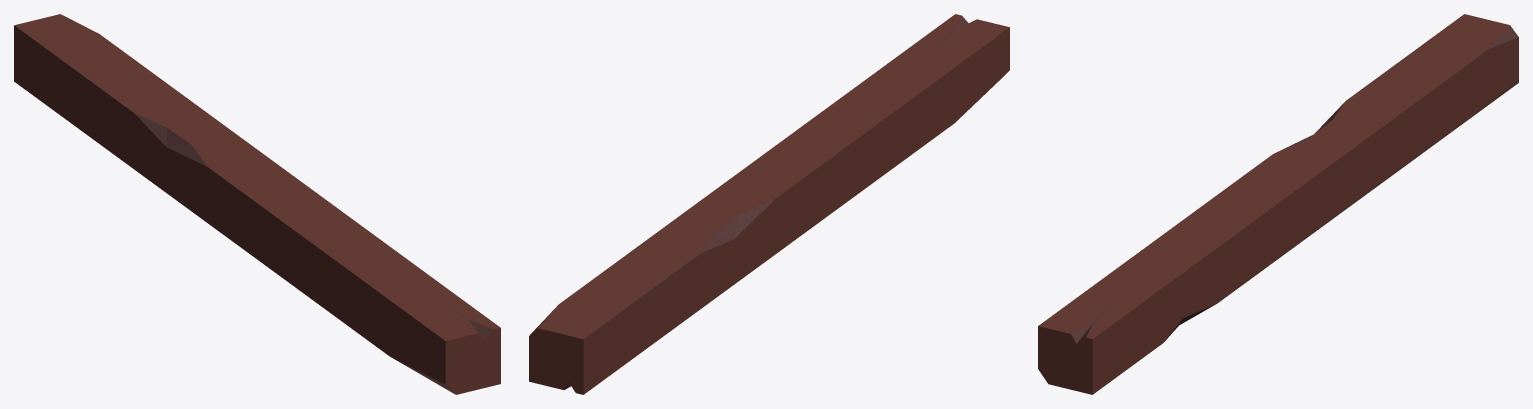
Rendered from SM_Gen_Bld_Beam_02.glb.
3 renders of one model, left to right at view 1: azimuth 30°, elevation 25°; view 2: azimuth 150°, elevation 25°; view 3: azimuth 330°, elevation 25°, orthographic.
Visible parts, largest first — view 1: SM_Gen_Bld_Beam_02; view 2: SM_Gen_Bld_Beam_02; view 3: SM_Gen_Bld_Beam_02.
Boxes of the visible parts, <box> form: SM_Gen_Bld_Beam_02: <box>14,14,500,394</box>; SM_Gen_Bld_Beam_02: <box>529,14,1009,394</box>; SM_Gen_Bld_Beam_02: <box>1038,14,1518,394</box>.
Size of the model in its own units: 0.3685 by 0.36 by 5.
1 material, 1 textured.
